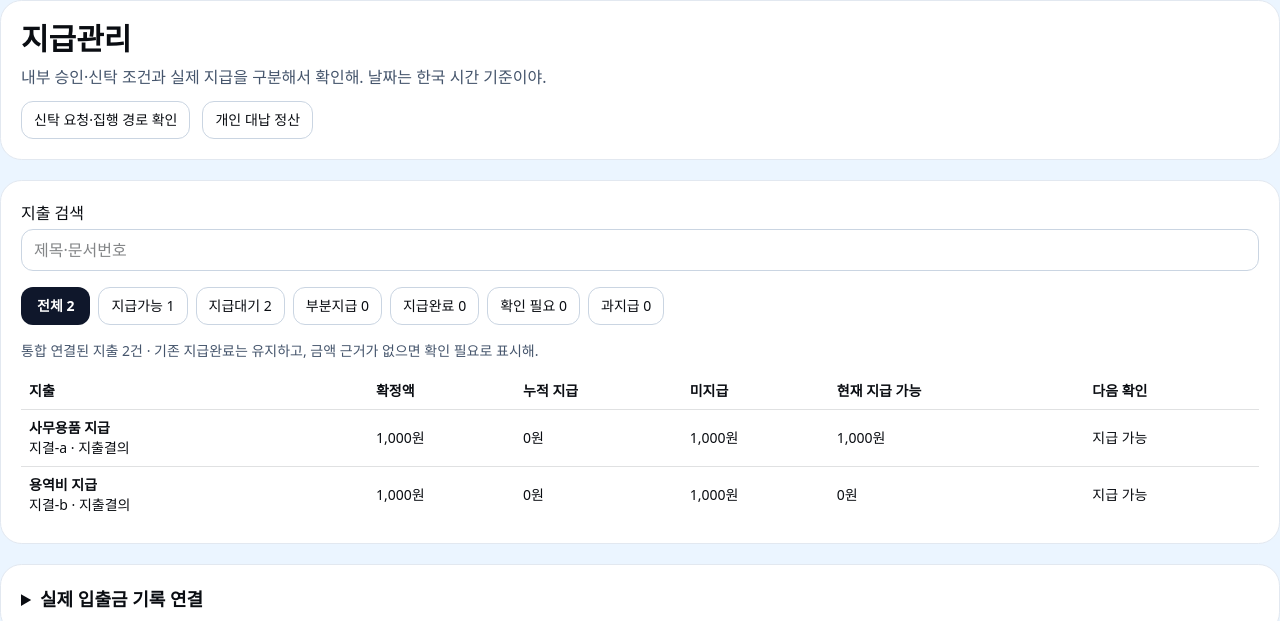
Test: payment UI persistence and source preservation › uses matching filtered tab counts and retains unrelated URL context
Click the button "지급가능 1" at coordinates (143, 306), box x1=98 y1=287 x2=188 y2=325
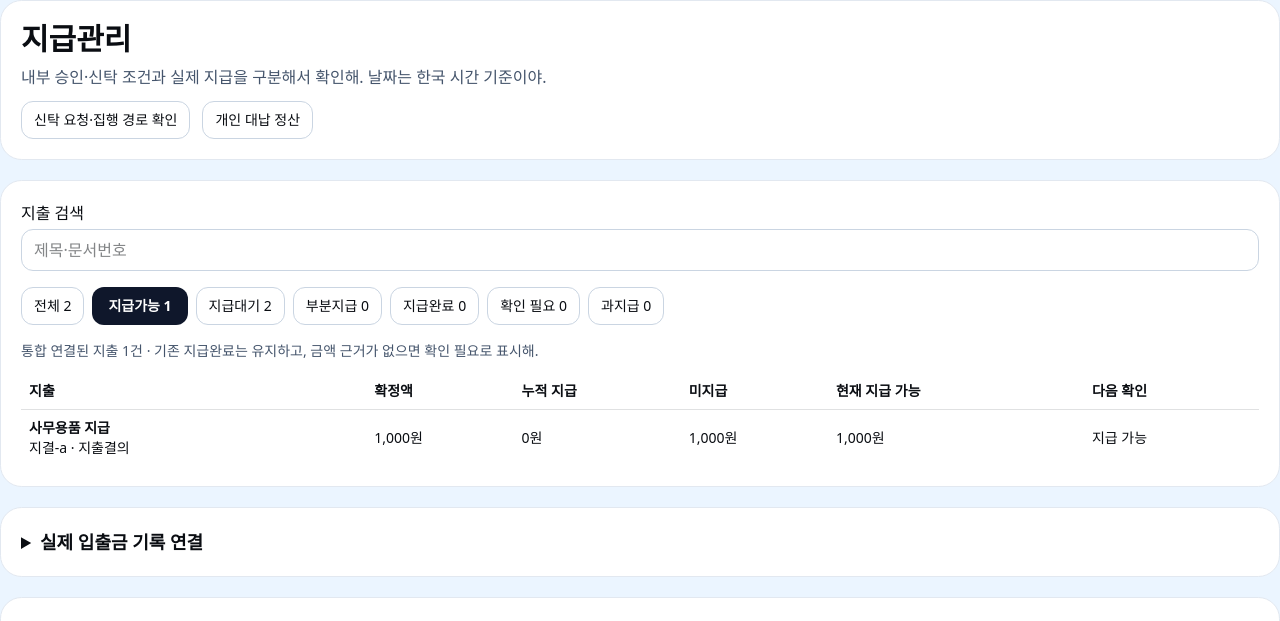
Expected: the text "사무용품 지급" is shown, x1=29 y1=418 x2=110 y2=437
Now the text "용역비 지급" is gone
Type "지결-b" into the search field labelled "지출 검색" at coordinates (640, 250), box x1=21 y1=229 x2=1259 y2=271
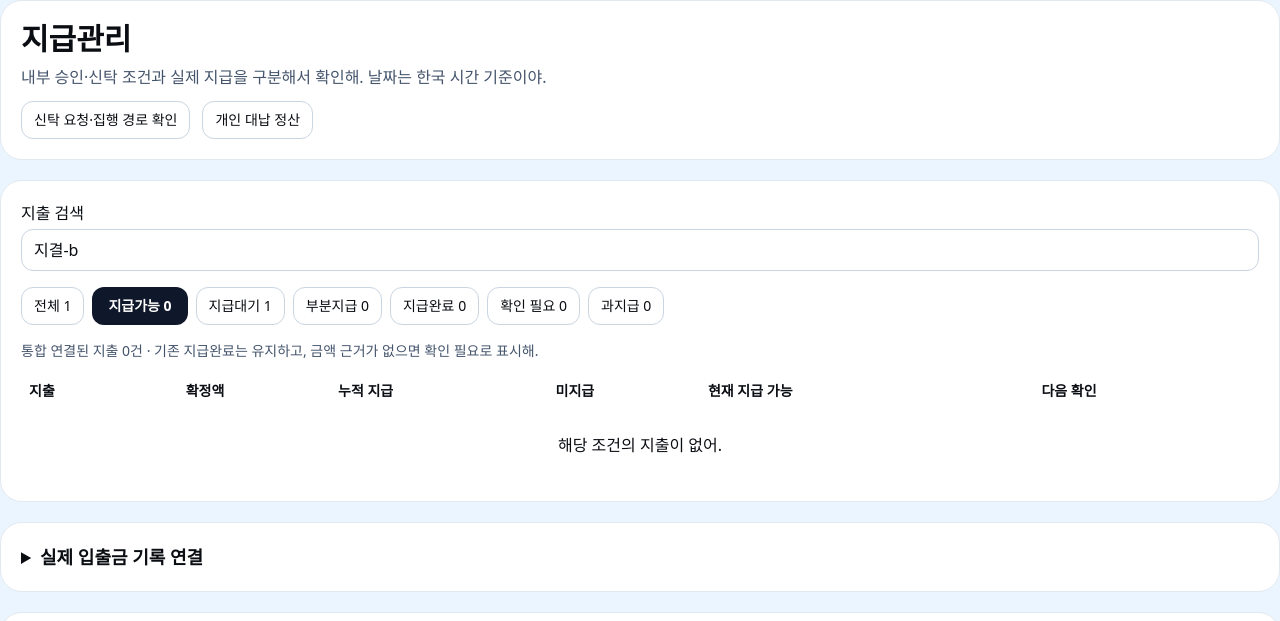
Now the button "전체 1" is shown
Now the button "지급가능 0" is shown, box x1=92 y1=287 x2=188 y2=325
Click the button "전체 1" at coordinates (53, 306), box x1=21 y1=287 x2=84 y2=325
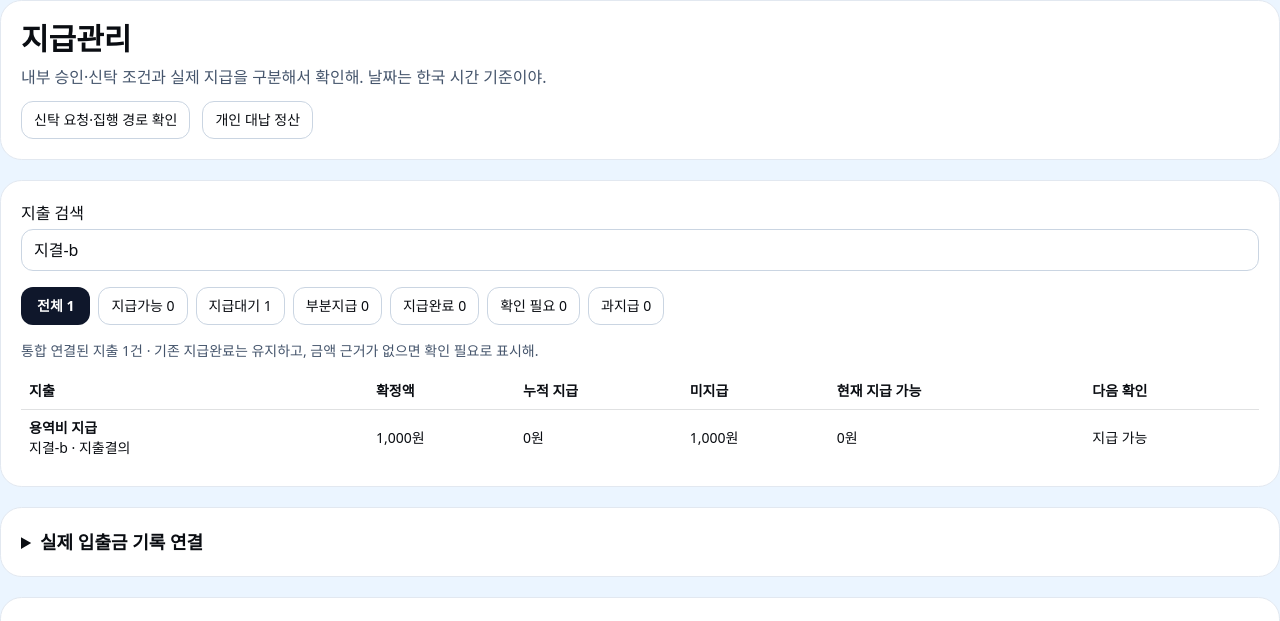
Now the text "용역비 지급" is shown, box x1=29 y1=418 x2=97 y2=437
